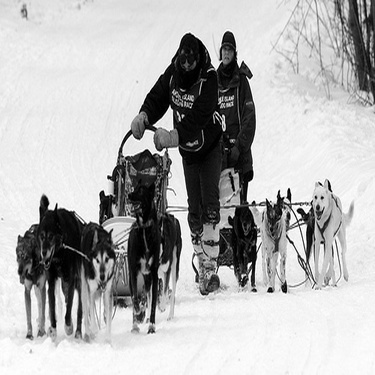dog: (116, 173, 183, 341), (33, 189, 80, 337), (308, 176, 355, 291), (79, 214, 117, 345), (10, 217, 48, 341), (292, 172, 335, 281), (224, 198, 261, 297), (265, 197, 290, 291), (86, 183, 121, 225), (270, 185, 293, 242)
